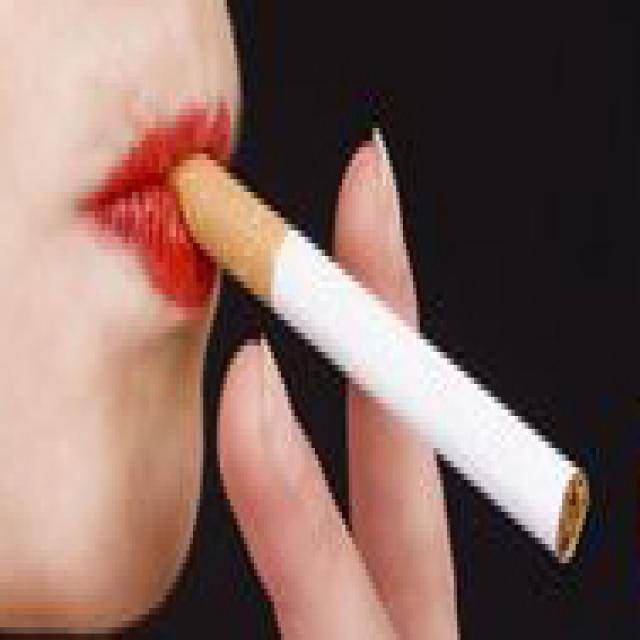smoking: (172, 151, 593, 565)
